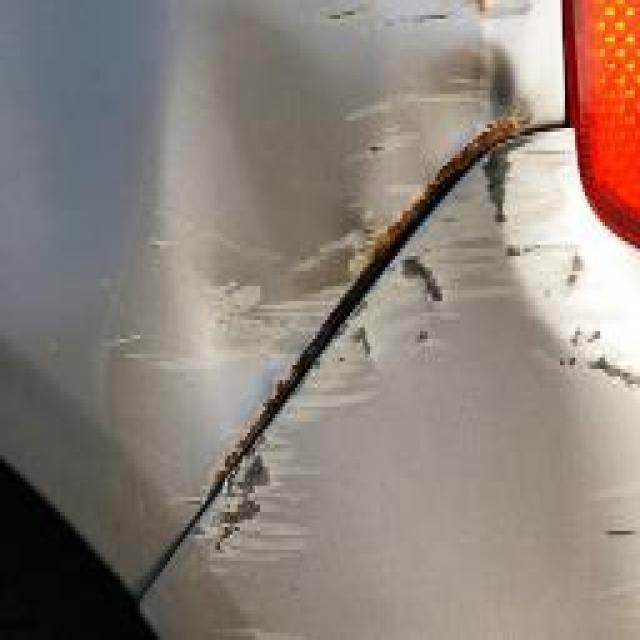Bumper: (134, 130, 640, 640)
Fender: (29, 0, 568, 627)
